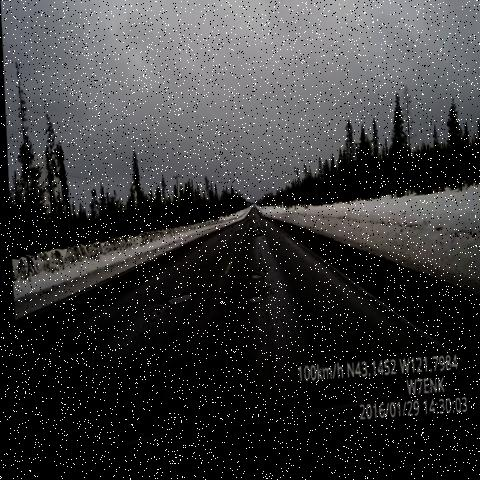pothole: (151, 288, 194, 325), (242, 263, 272, 291), (241, 223, 265, 250), (241, 295, 270, 313)
